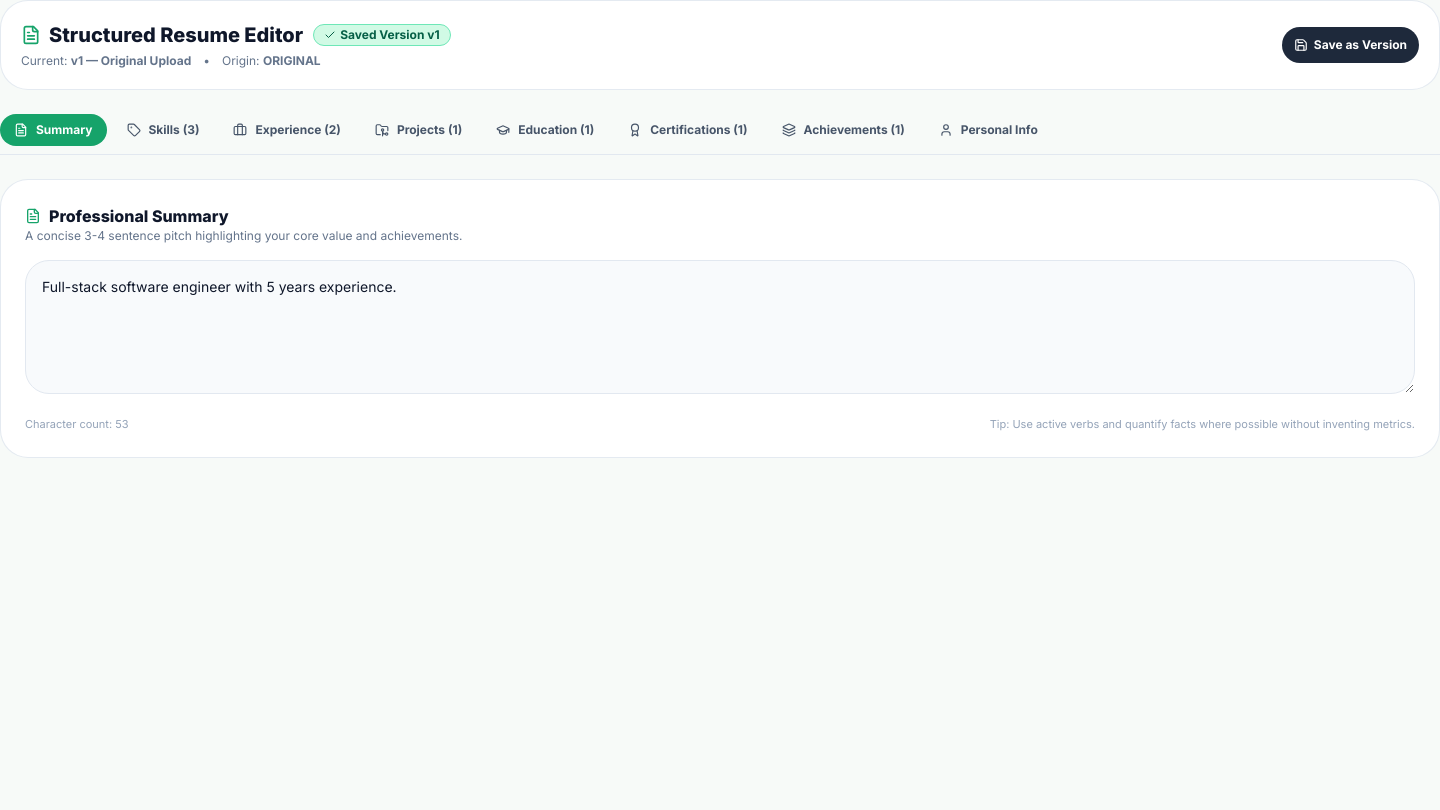
Test: ResumeEditor › allows adding, updating and reordering experience items
Note: Switch to Experience tab
Click the button "Experience (2)" at (287, 130), box [219,114,355,146]
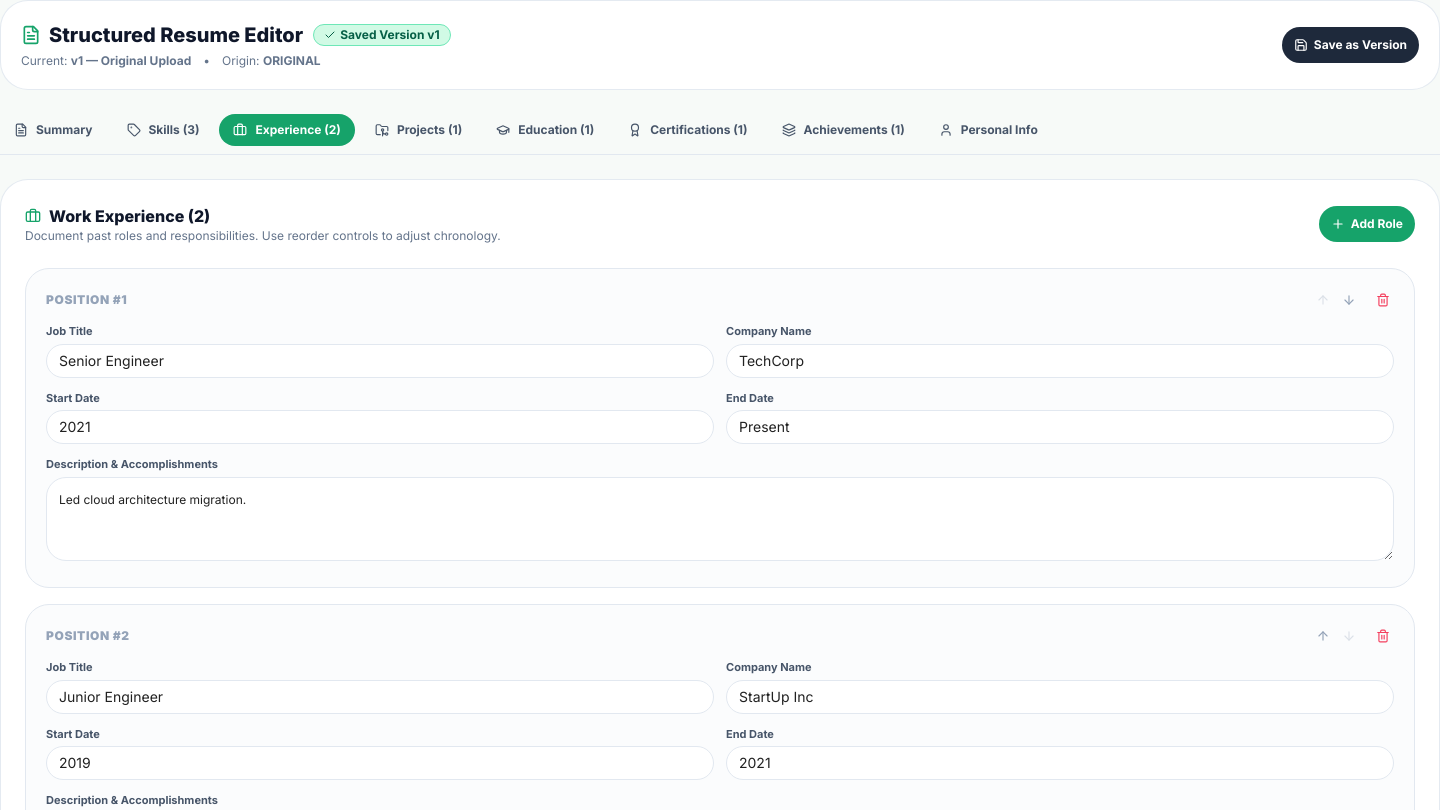
Check: the 2nd field showing "TechCorp" is shown, box [726,344,1394,378]
Check: the 6th field showing "StartUp Inc" is shown, box [726,680,1394,714]
Note: Click Move Down on the first item
Click the 1st button titled "Move Down" at (1349, 300), box [1338,289,1360,311]
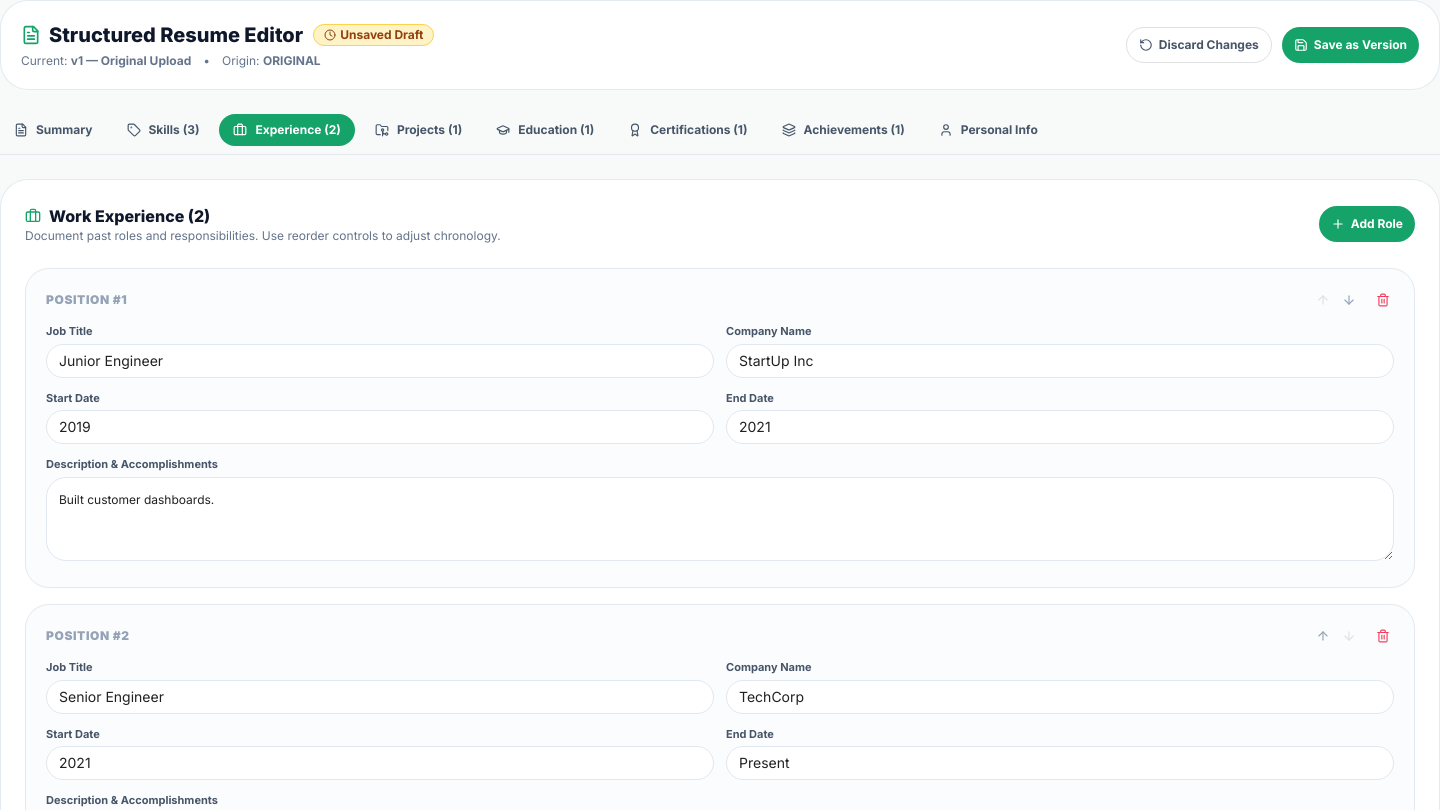
Check: the 2nd field with placeholder "e.g. Google, Acme Inc." holds "StartUp Inc", box [726,344,1394,378]
Check: the 6th field with placeholder "e.g. Google, Acme Inc." holds "TechCorp", box [726,680,1394,714]
Note: Add new role
Click the button "Add Role" at (1367, 224), box [1319,206,1415,242]
(page scrolled)
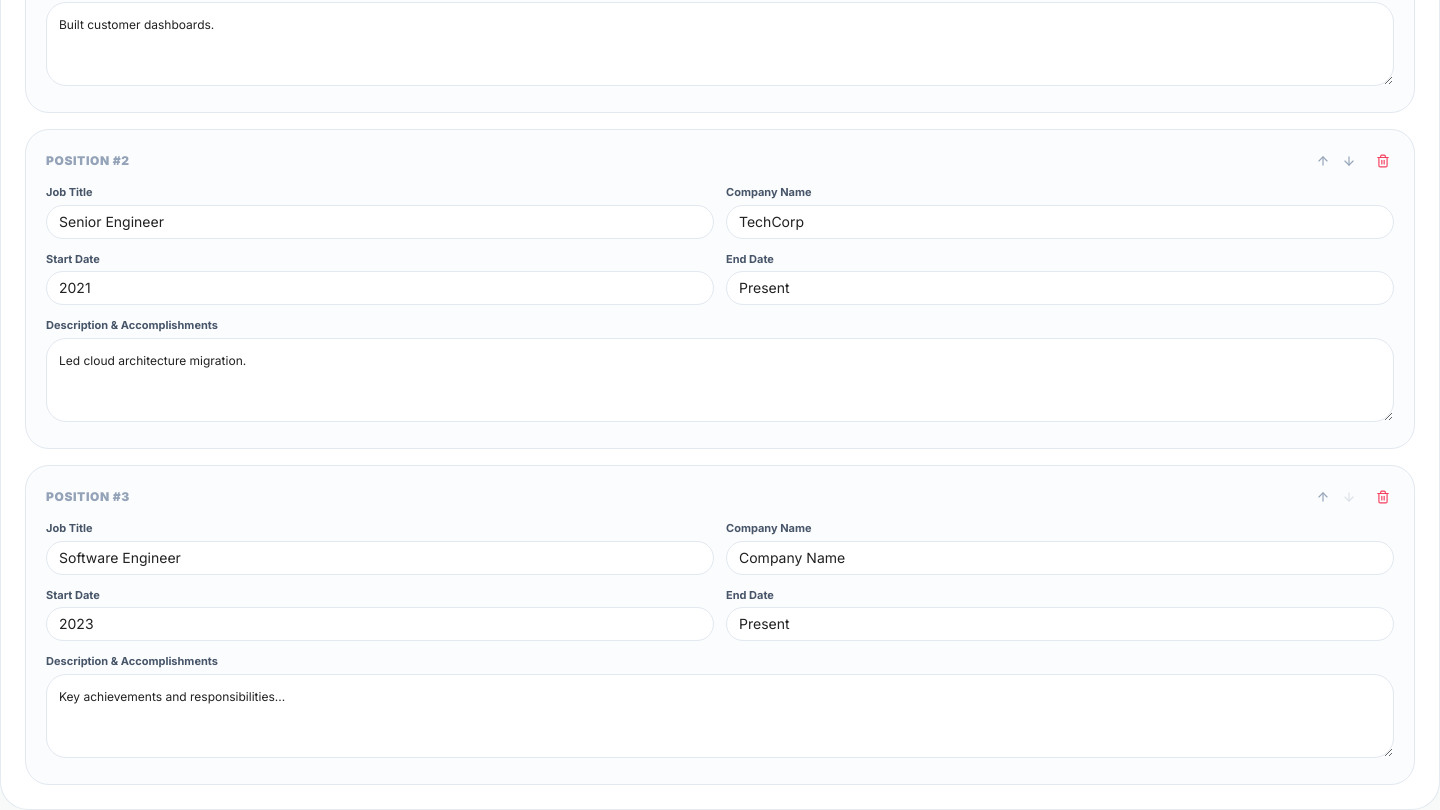
Check: the text "Position #3" is shown, box [46,489,130,505]
